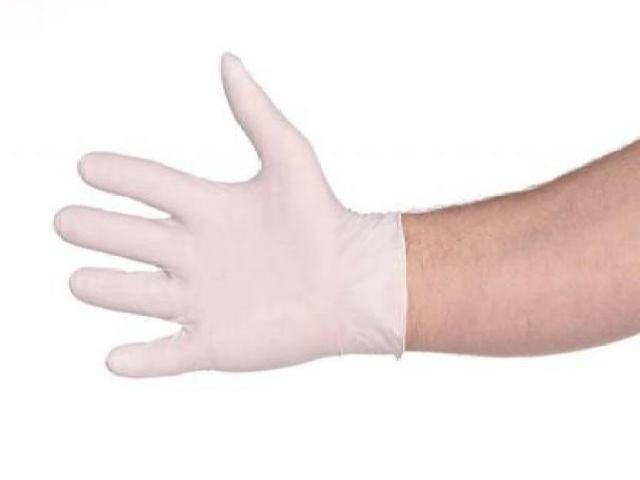Hand-in-Glove: (41, 47, 404, 412)
